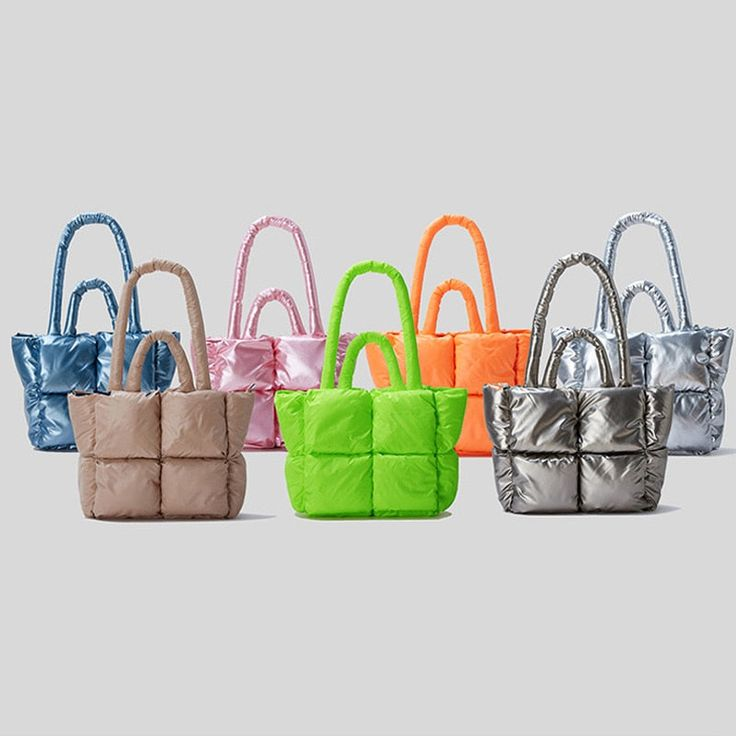nylon: (11, 212, 734, 519)
